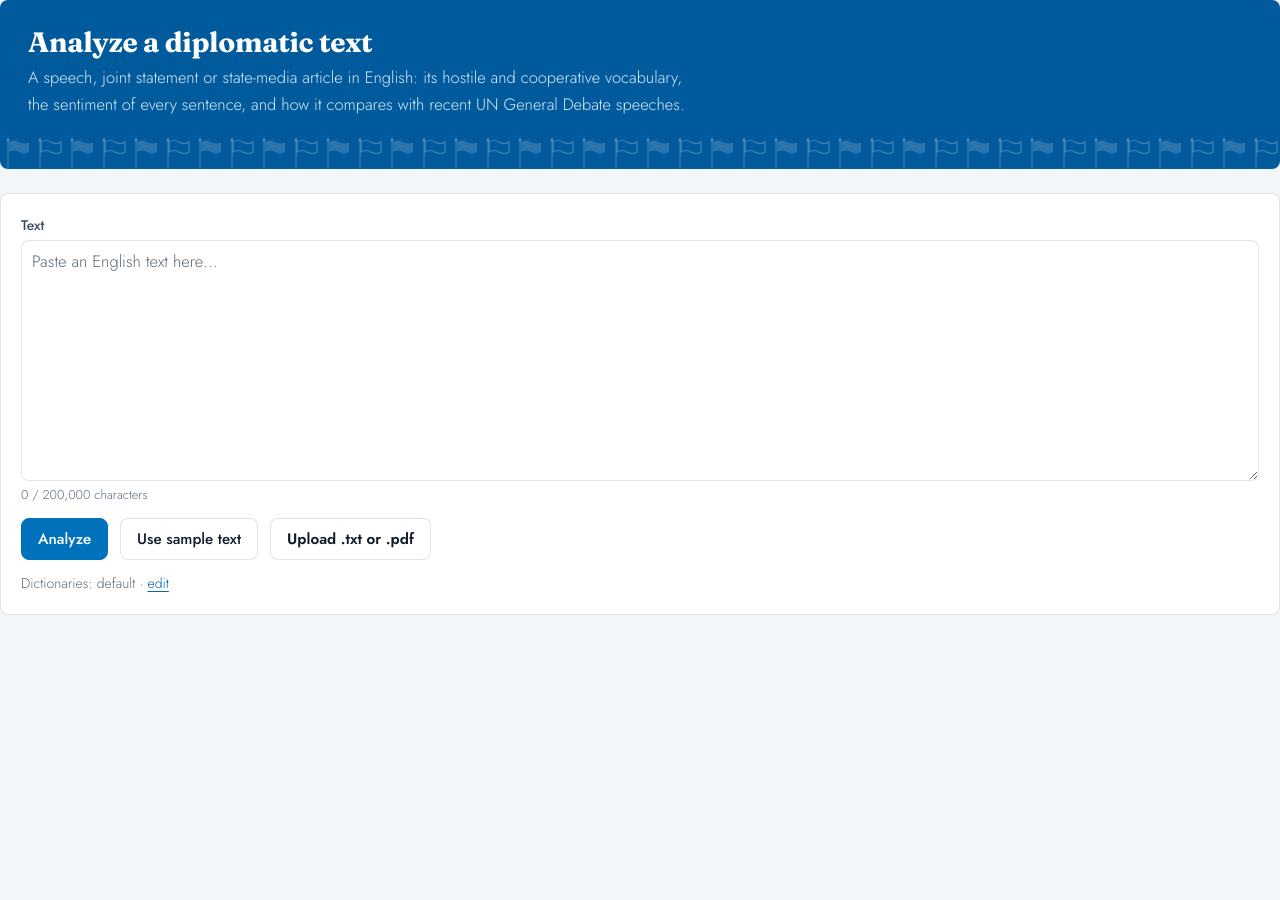
Test case: AnalyzePage › shows API errors to the user
Type "Hi." into the text box labelled "Text" at (640, 361), box x1=21 y1=240 x2=1259 y2=481
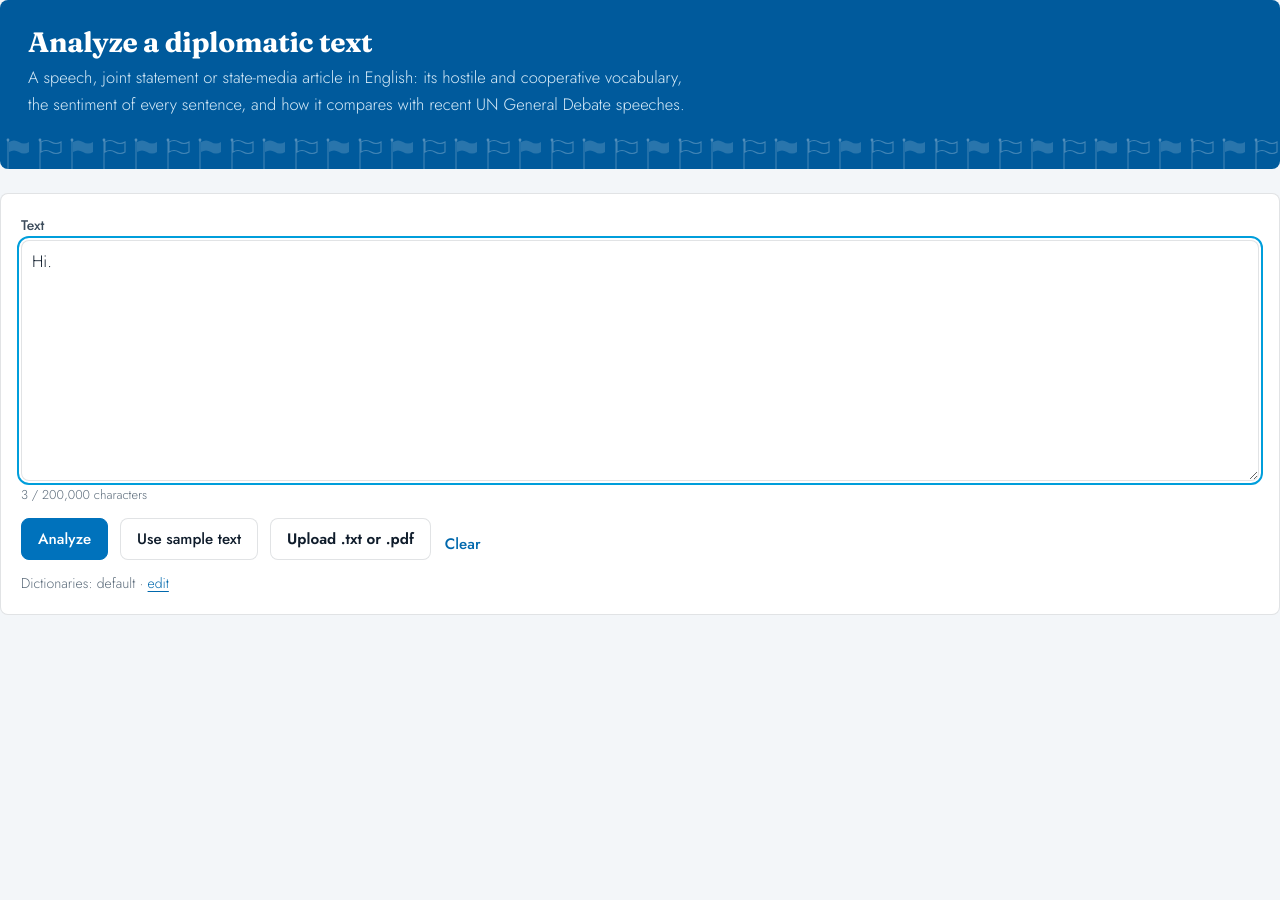
Click the button "Analyze" at (65, 539), box x1=21 y1=518 x2=108 y2=560
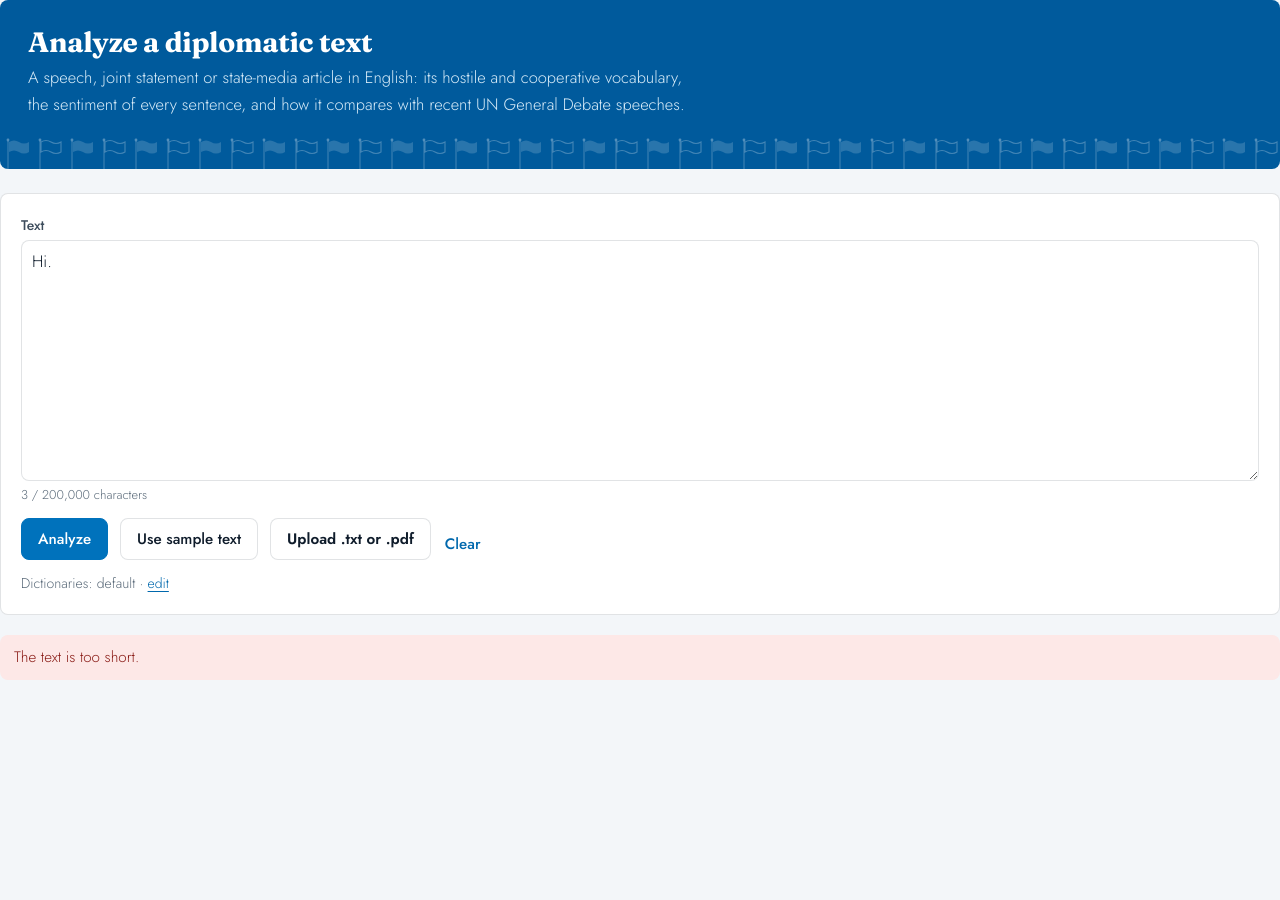
Expected: the message reads "The text is too short.", x1=14 y1=646 x2=139 y2=668
